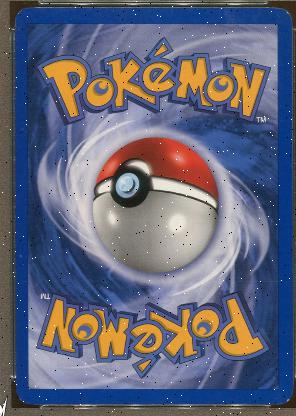Card: (12, 6, 293, 409)
Corner Wear: (13, 10, 21, 32), (270, 397, 288, 405), (282, 9, 291, 21)
Scratch: (18, 254, 21, 258), (21, 263, 24, 266)
